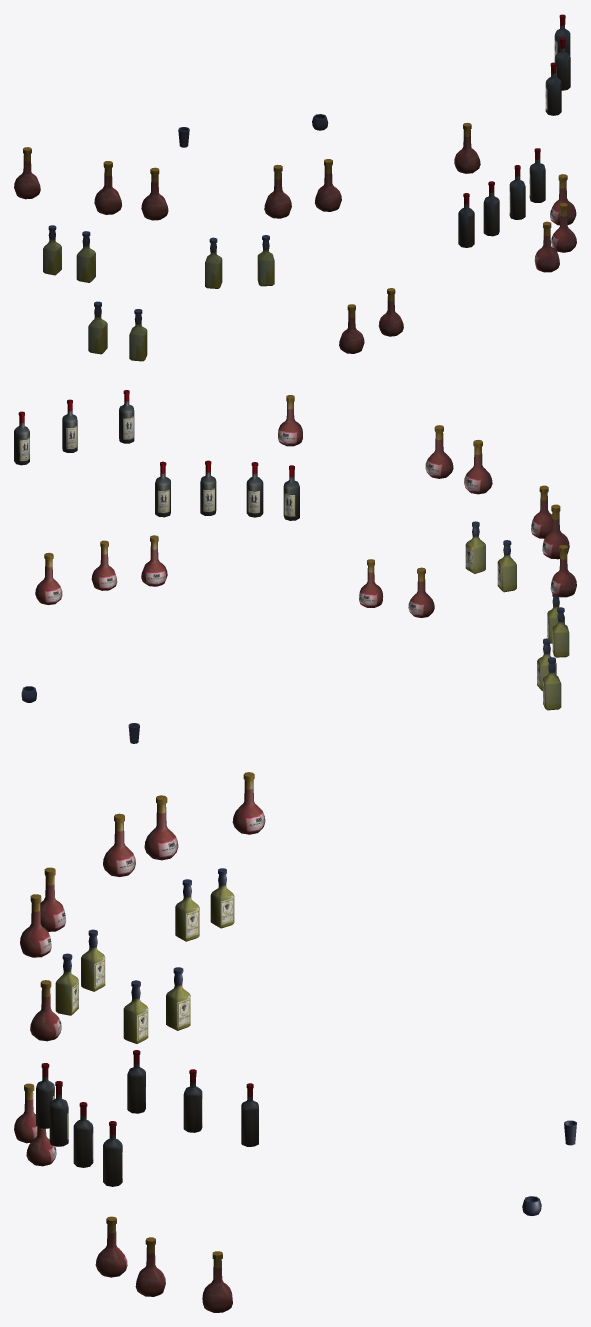
Rendered from mesh_jiuping.FBX.
3 views of the same model, one above another, from view 1: azimuth 30°, elevation 25°; view 2: azimuth 150°, elevation 25°; view 3: azimuth 270°, elevation 25° (orthographic). The views are drawn at different scales.
Parts seen in each view (by area): view 1: jiuping; view 2: jiuping; view 3: jiuping.
Part boxes in pixels (x1,y1,x2,y2): jiuping: (14,14,576,361); jiuping: (14,390,576,743); jiuping: (14,772,576,1312).
Bounding box in the file's own units: 208 × 69.68 × 153.
Materials: 1 (1 with a texture image).
